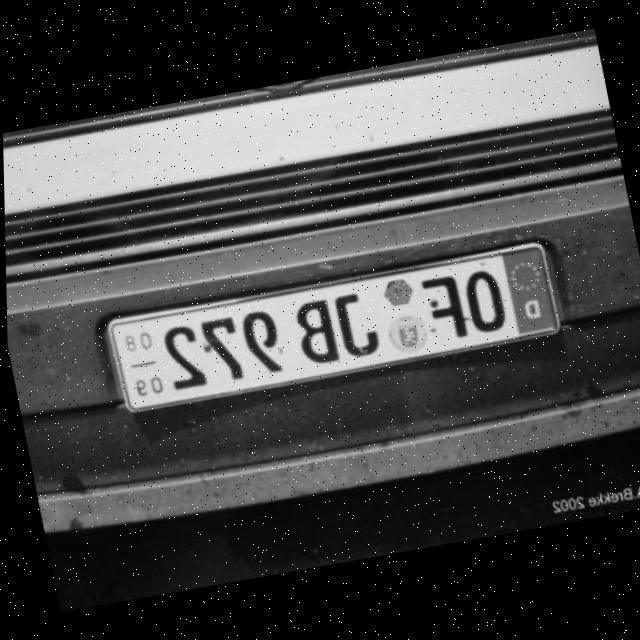license-plates: (106, 243, 560, 413)
